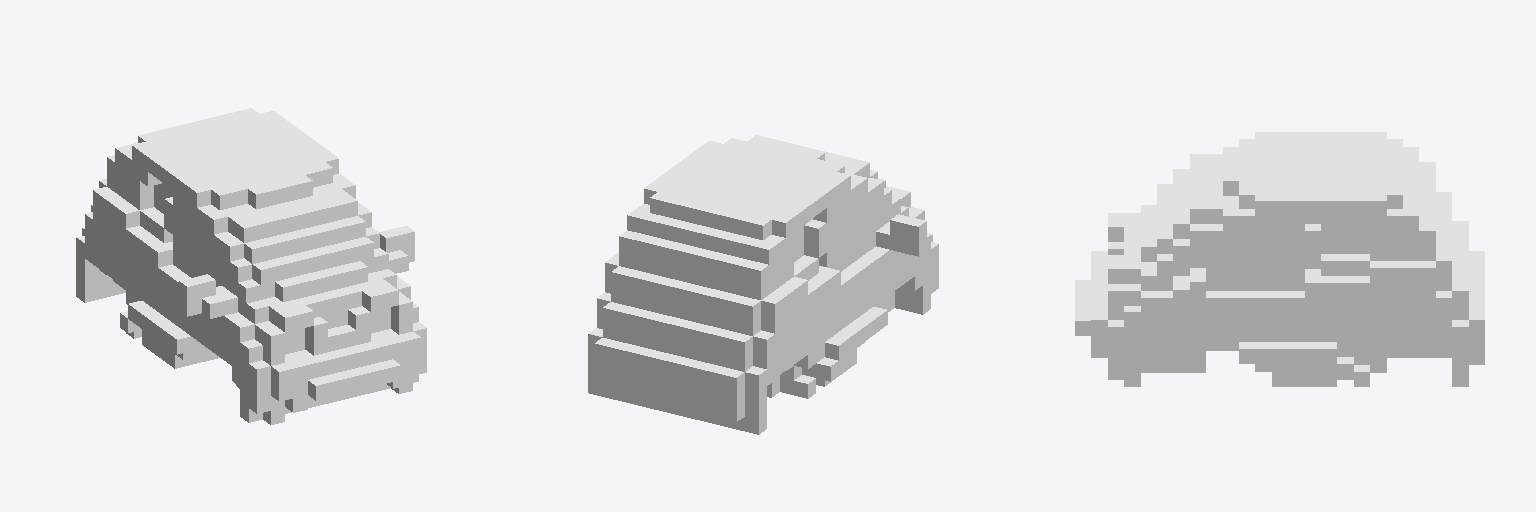
The model's file is SmallCar0.obj.
3 views of the same model, side by side, from view 1: azimuth 30°, elevation 25°; view 2: azimuth 150°, elevation 25°; view 3: azimuth 270°, elevation 25° (orthographic).
Visible parts, largest first — view 1: object 1; view 2: object 1; view 3: object 1.
Boxes of the visible parts, x1,y1,x2,y2 form: object 1: [76, 108, 426, 424]; object 1: [588, 135, 938, 434]; object 1: [1075, 132, 1484, 386].
Size of the model in its own units: 1.6 by 1.2 by 2.5.